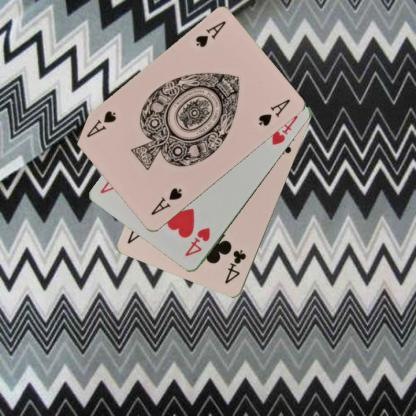4c: (222, 247, 248, 285)
4h: (182, 226, 211, 258)
As: (148, 186, 183, 218), (193, 19, 228, 49)
